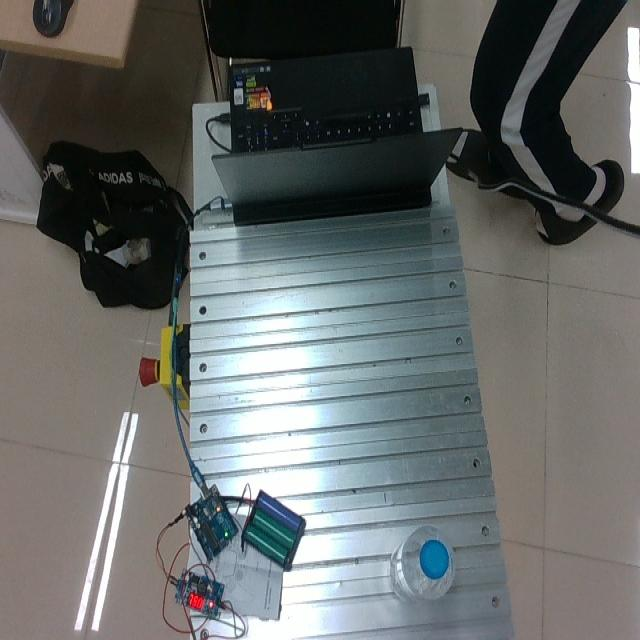lavie: (389, 523, 457, 604)
